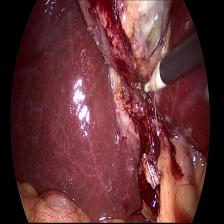Hook: (140, 56, 168, 98)
